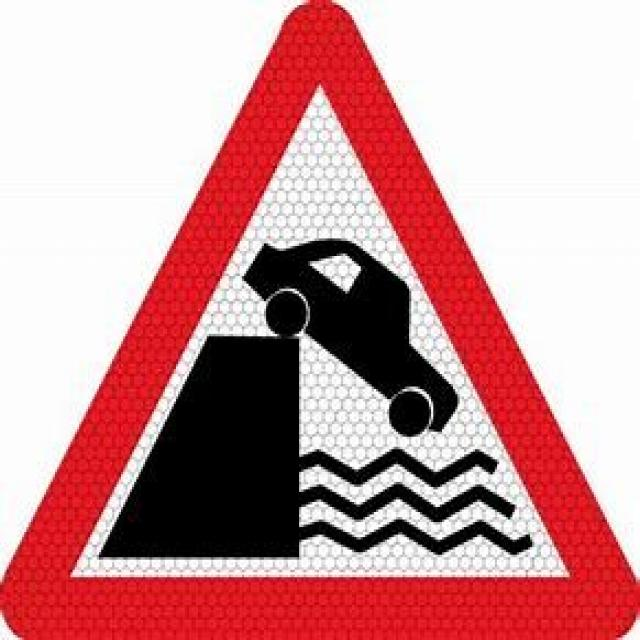QUAY_SIDE_OR_RIVER_BANK: (0, 0, 638, 637)
